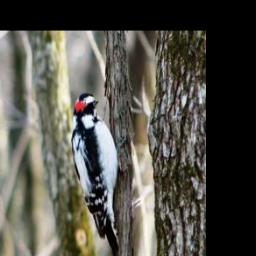Woodpecker: (68, 93, 126, 256)
